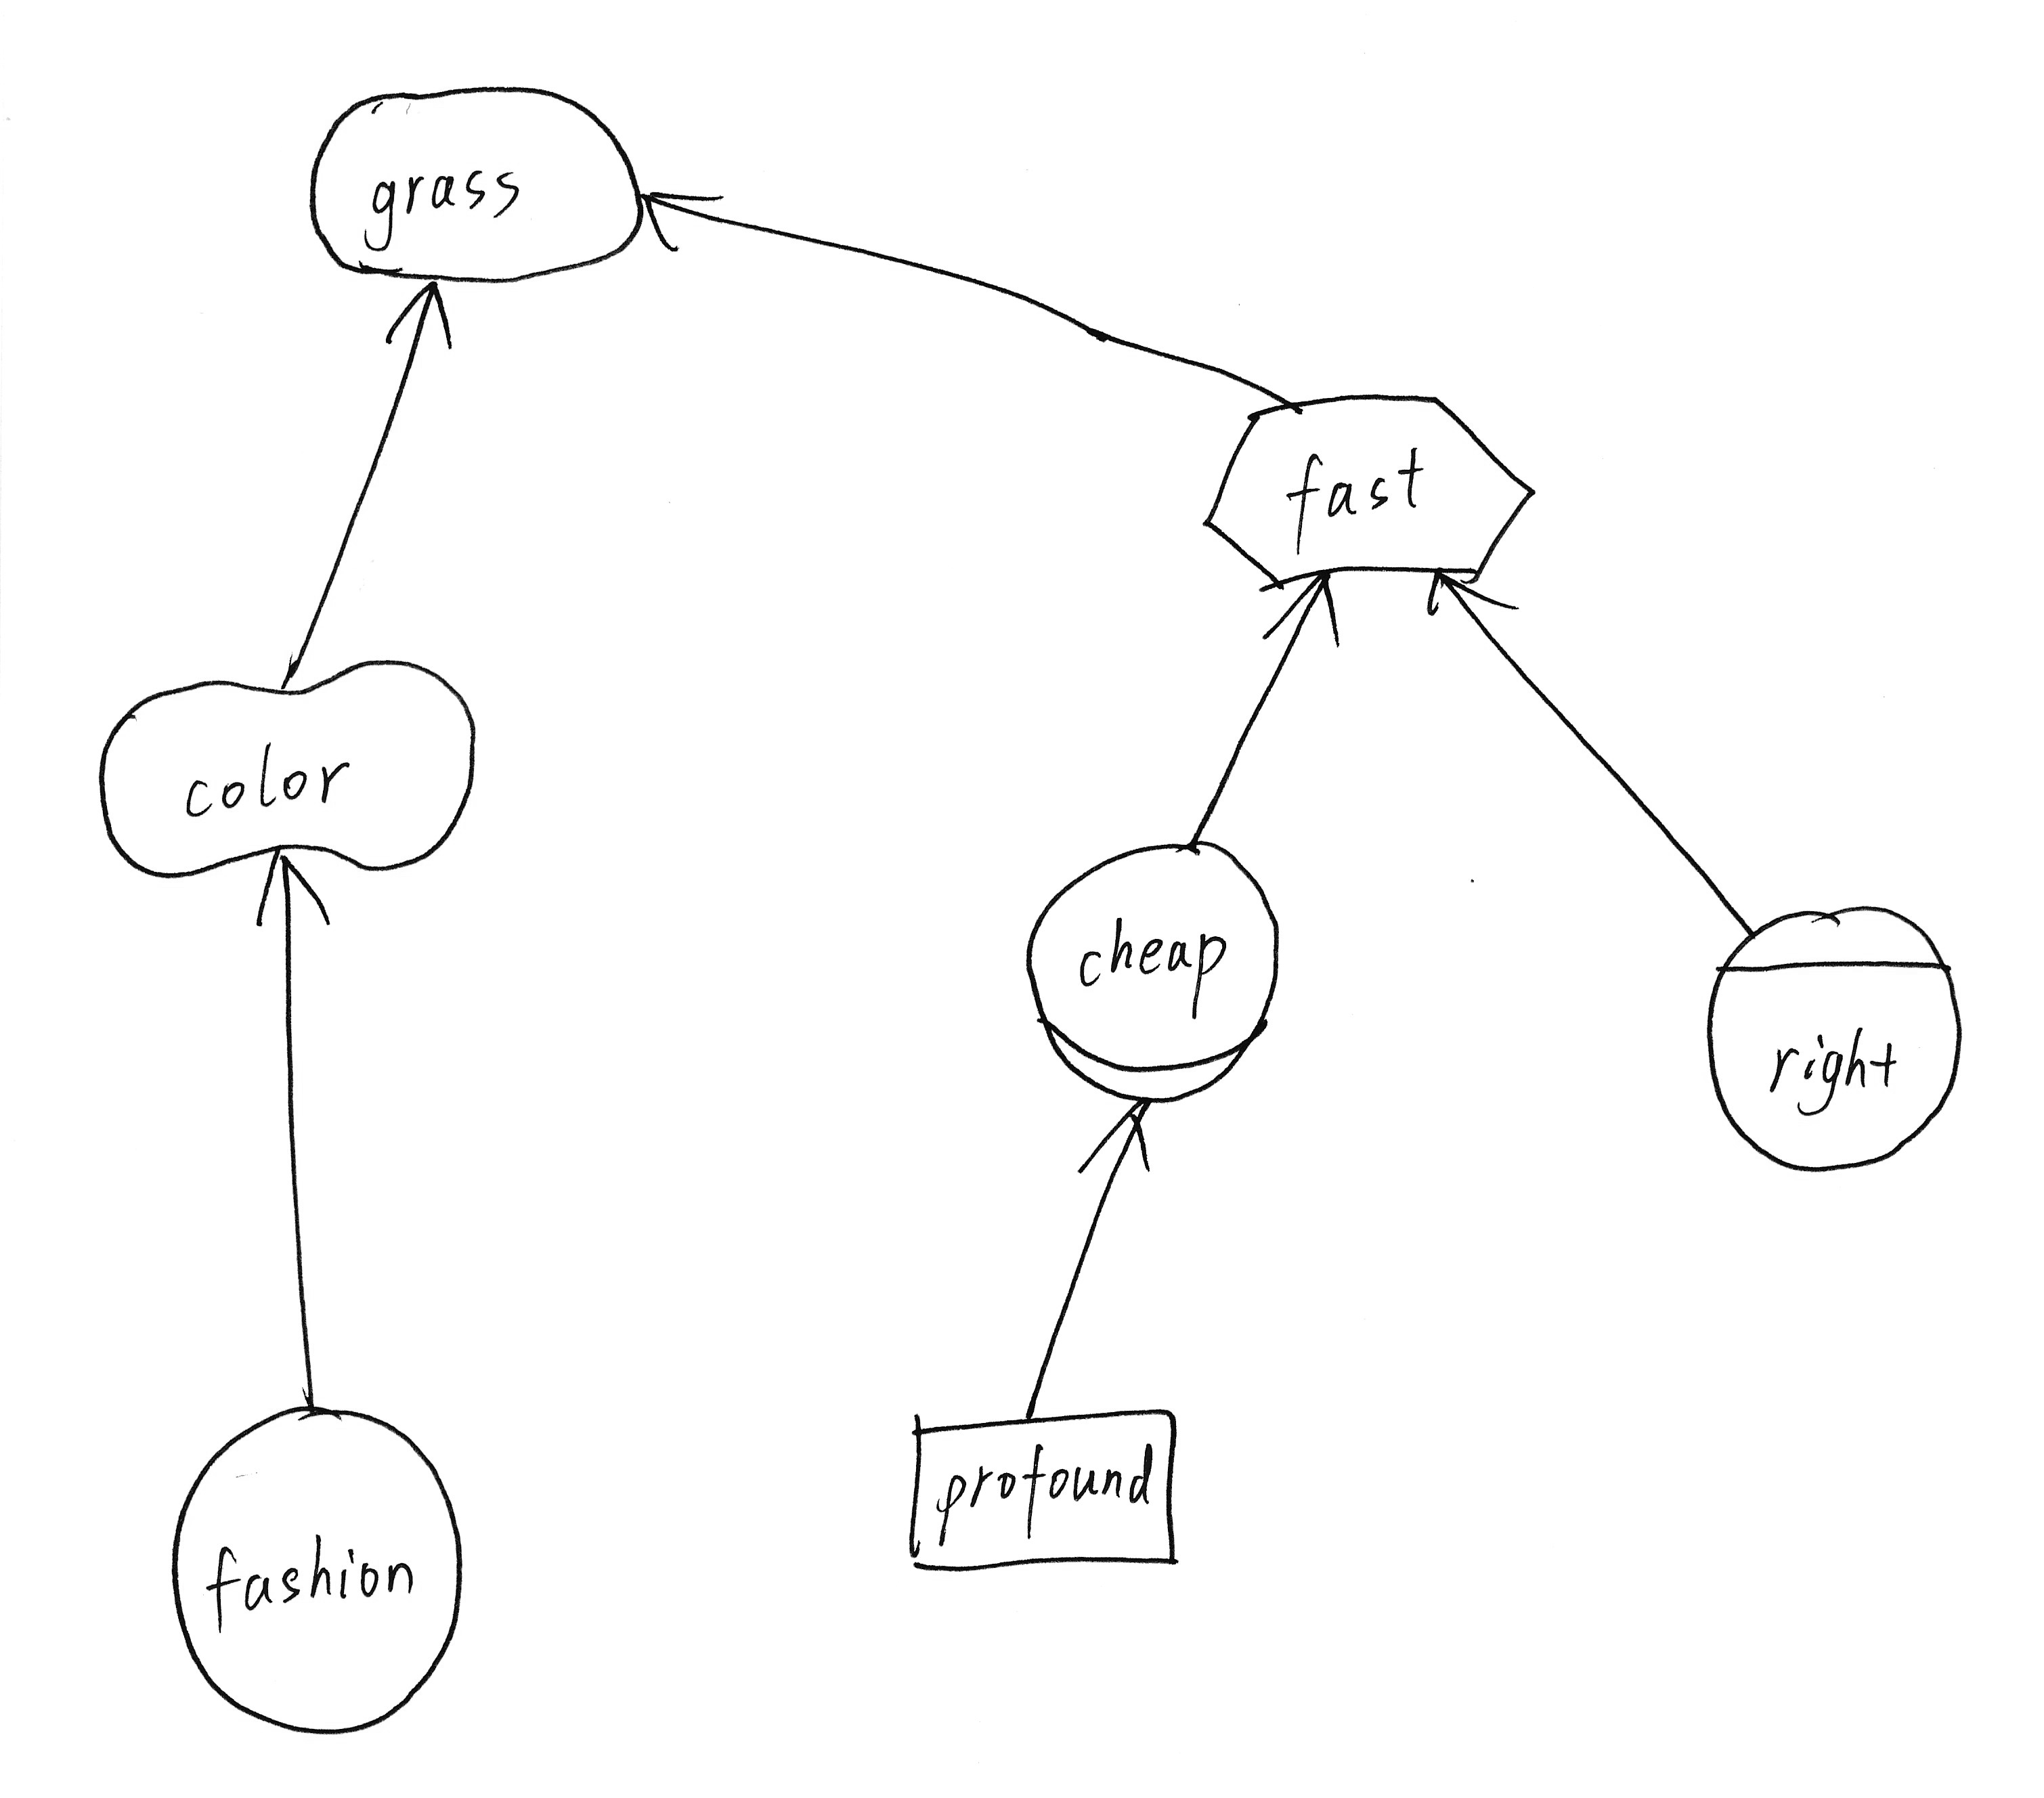actor: (155, 1385, 485, 1755)
agent: (1691, 889, 1976, 1181)
arrow: (372, 264, 469, 360), (1067, 1089, 1161, 1188), (1420, 558, 1533, 638), (245, 841, 335, 940), (1253, 563, 1350, 651), (627, 175, 733, 255)
goal: (290, 71, 662, 295)
quality: (83, 650, 492, 891)
resource: (888, 1397, 1198, 1586)
role: (1008, 825, 1297, 1117)
task: (1196, 380, 1543, 601)
